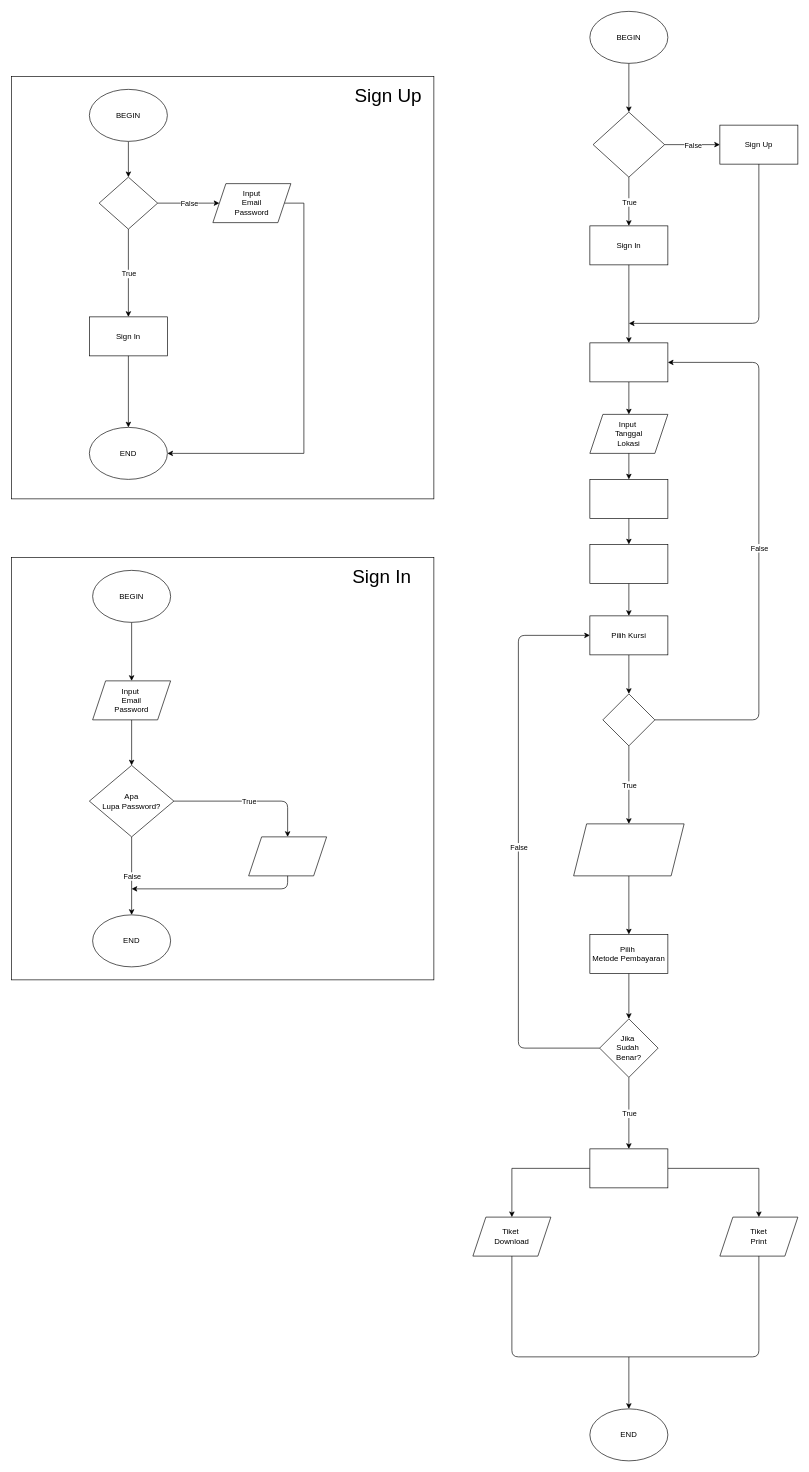
The diagram is 809 pixels wide and 1472 high, and some of its shapes have lost their labels. Each missing label, with the box of its shape:
Homepage Pilih Film: (589, 342, 668, 382)
Input Email: (248, 836, 327, 876)
Input Nama Lengkap Email Nomor Telepon: (573, 823, 684, 876)
jika sudah benar ?: (602, 693, 655, 746)
Klik 'Book Now': (589, 544, 668, 583)
Pilih Jam Penayangan: (589, 479, 668, 518)
Sudah ada akun ?: (98, 176, 158, 229)
Sudah Ada Akun?: (592, 111, 665, 177)
Tiket: (589, 1148, 668, 1188)
